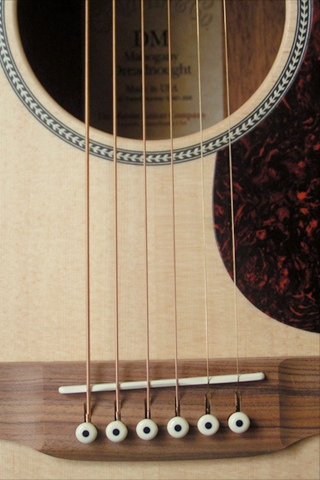guitar: (1, 1, 320, 480)
